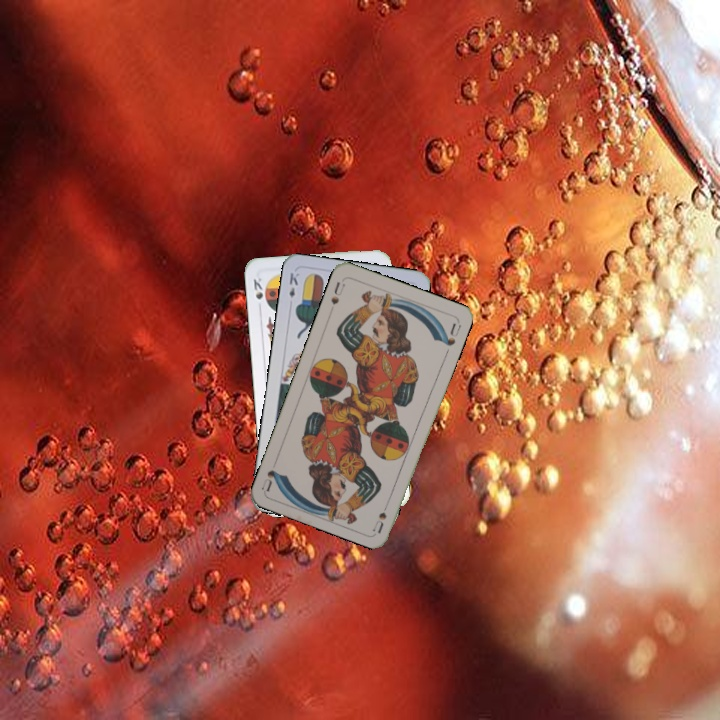EK: (285, 269, 302, 300)
SK: (249, 273, 269, 306)
SU: (369, 495, 393, 534), (327, 278, 348, 307)
